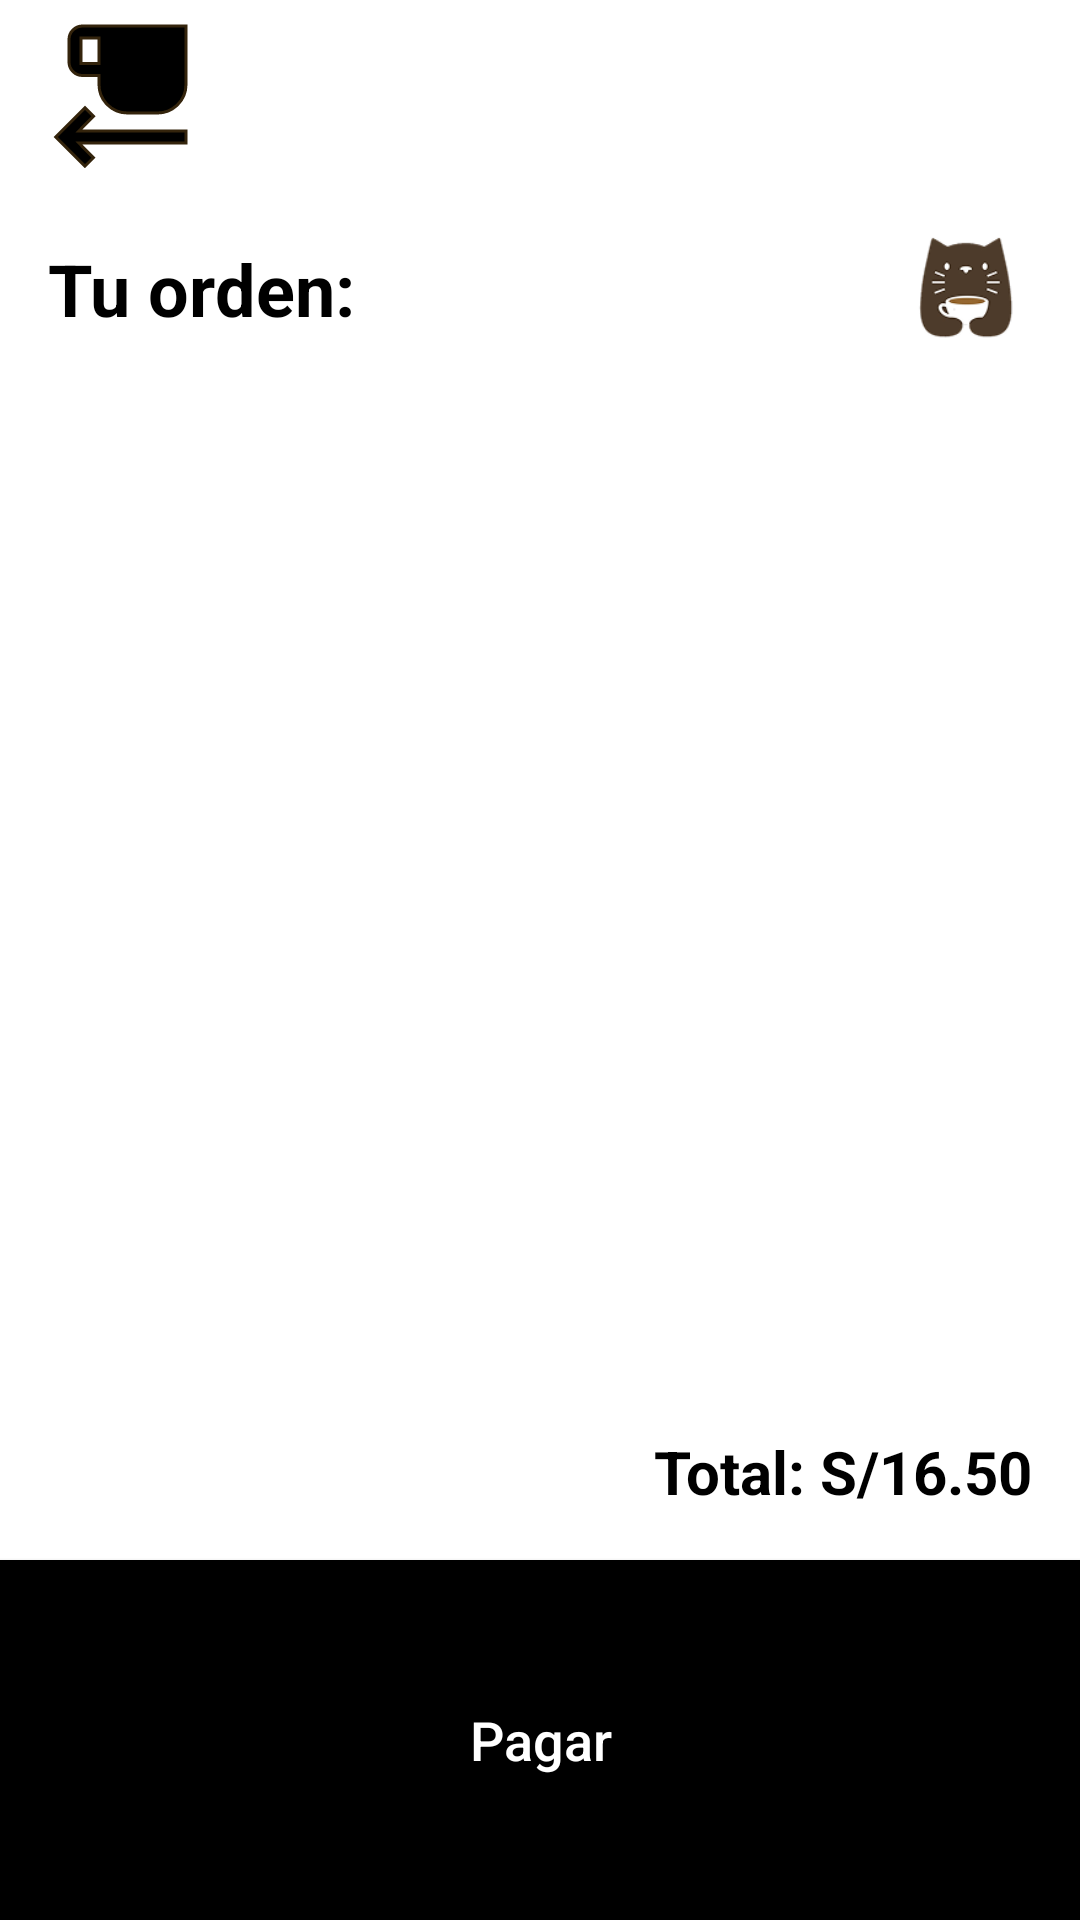

Where to tap for icons on this 1080 × 1920 app screen, as point (x, y):
profile cat: point (966, 288)
Regresar: point (121, 96)
